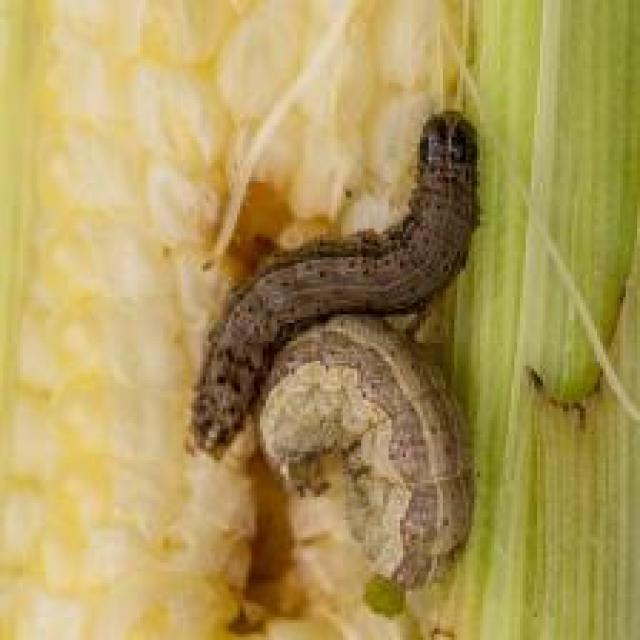pest: (191, 123, 485, 453), (269, 331, 489, 567)
